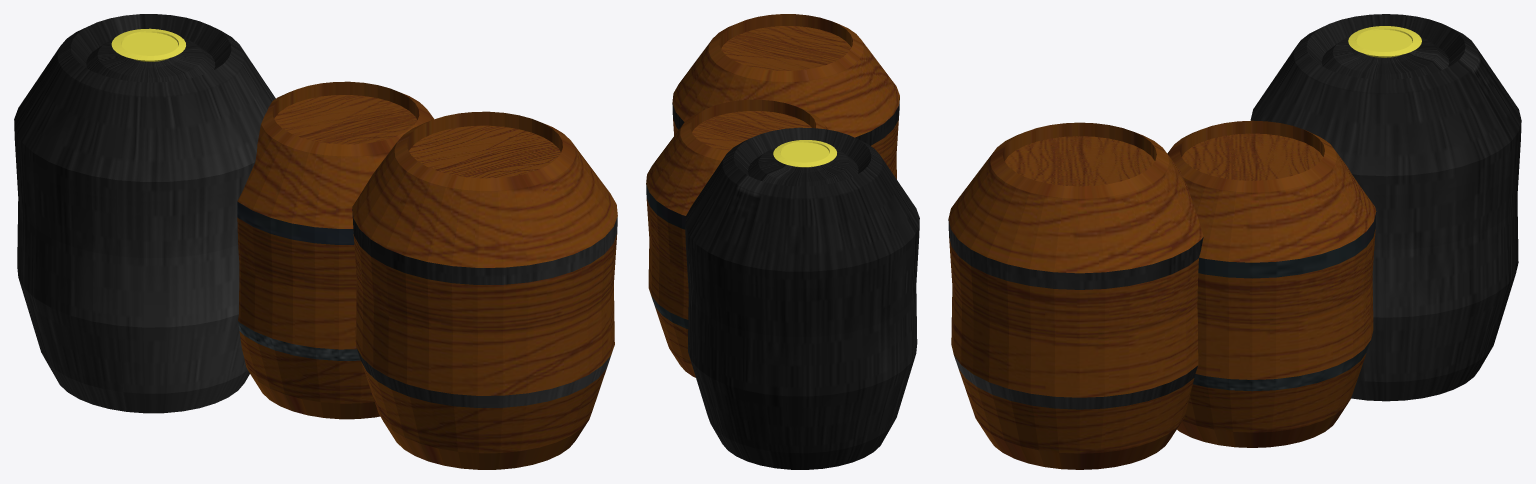
File: baril.fbx
3 views of the same model, side by side, from view 1: azimuth 30°, elevation 25°; view 2: azimuth 150°, elevation 25°; view 3: azimuth 270°, elevation 25° (orthographic). The views are drawn at different scales.
Parts seen in each view (by area): view 1: Cylinder.006, Cylinder.005, Cylinder.004; view 2: Cylinder.006, Cylinder.005, Cylinder.004; view 3: Cylinder.005, Cylinder.006, Cylinder.004.
Boxes of the visible parts, box(x1,y1,x2,y2) form: Cylinder.006: box(14, 14, 275, 413); Cylinder.005: box(352, 111, 617, 469); Cylinder.004: box(237, 81, 433, 419); Cylinder.006: box(685, 127, 919, 469); Cylinder.005: box(672, 14, 899, 179); Cylinder.004: box(646, 99, 827, 377); Cylinder.005: box(948, 122, 1203, 469); Cylinder.006: box(1250, 14, 1521, 401); Cylinder.004: box(1167, 120, 1376, 447).
Bounding box in the file's own units: 22.66 × 17.45 × 28.27.
